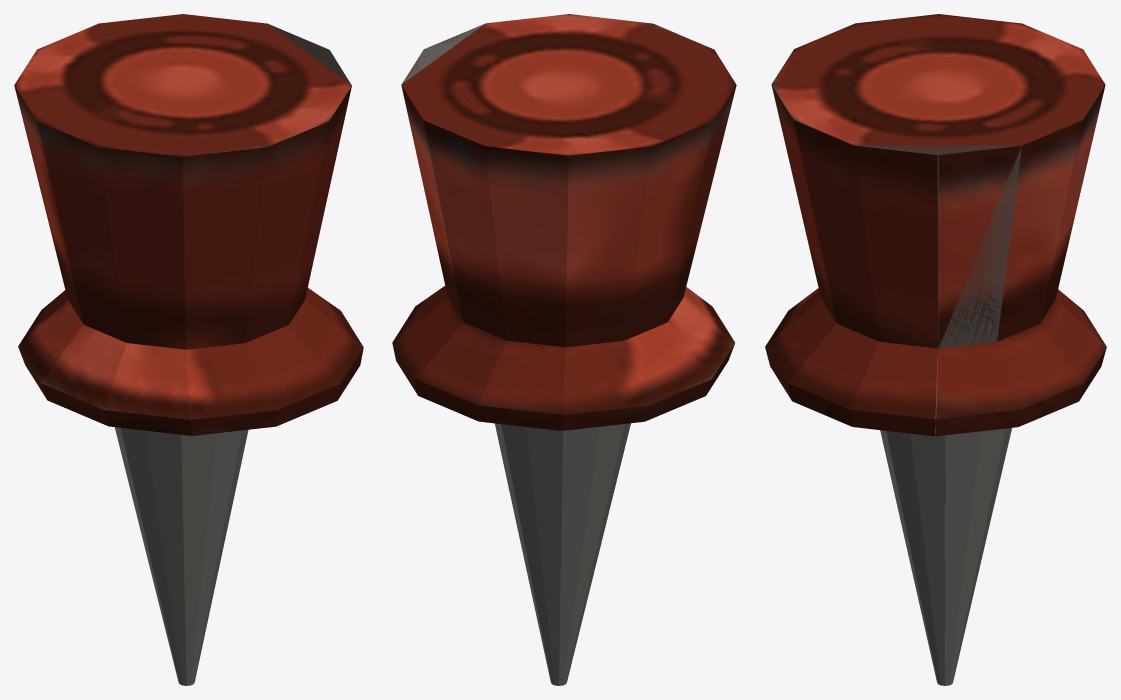
The model's file is Pin.fbx.
3 renders of one model, left to right at view 1: azimuth 30°, elevation 25°; view 2: azimuth 150°, elevation 25°; view 3: azimuth 270°, elevation 25°, orthographic.
Parts seen in each view (by area): view 1: Plane; view 2: Plane; view 3: Plane.
Part boxes in pixels (x1,y1,x2,y2): Plane: (14, 14, 363, 685); Plane: (392, 14, 736, 685); Plane: (765, 14, 1106, 685).
Size of the model in its own units: 36.43 by 69.18 by 36.04.
1 material, 1 textured.
